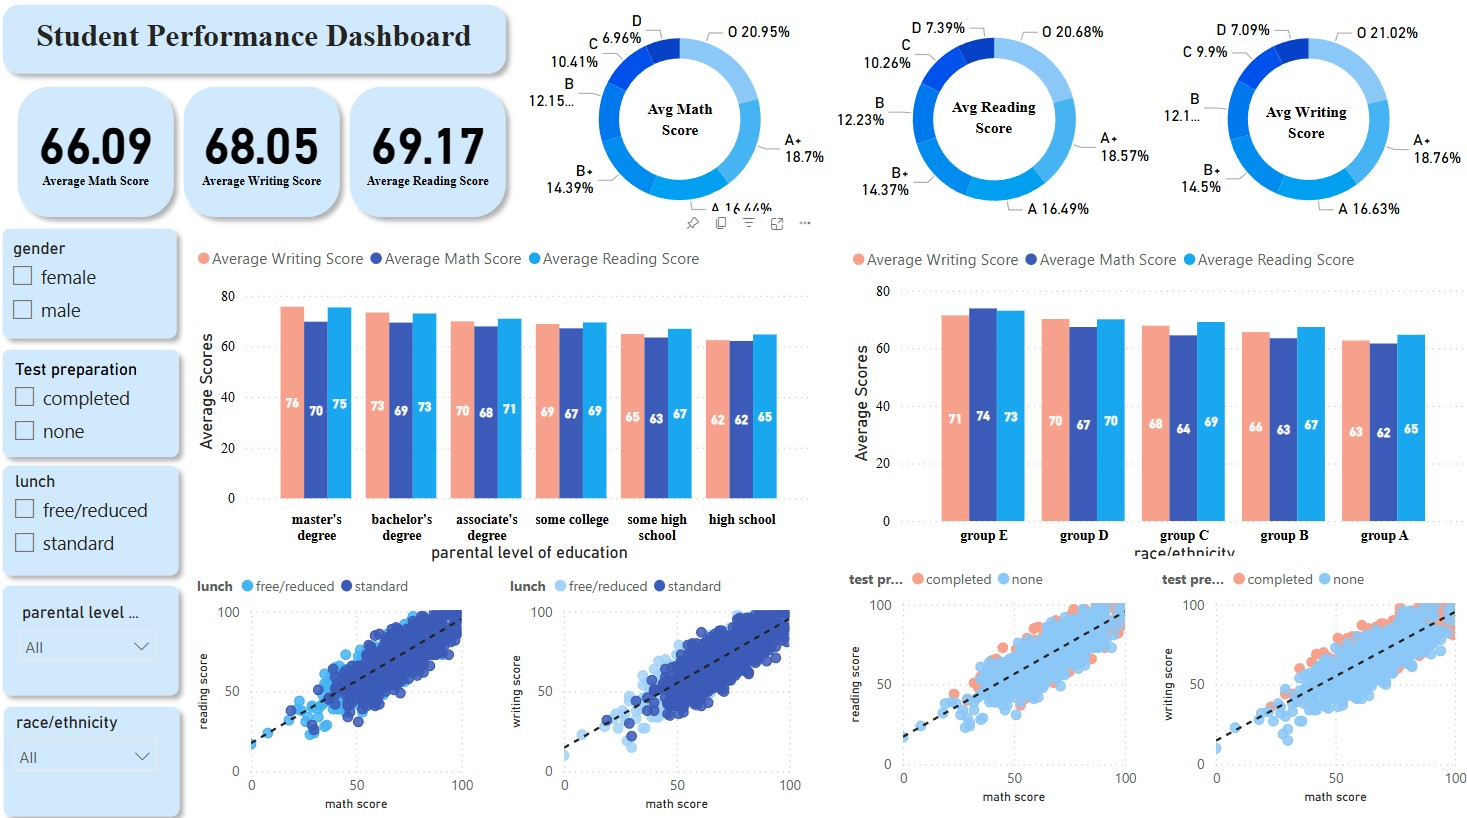

The dashboard page shown, as its layout file describes it:
{"tool":"powerbi","page":{"name":"Page 1","canvas":[1280,720],"ordinal":0},"visuals":[{"type":"shape","box":[0,0,453.3,77.8],"z":0},{"type":"textbox","box":[21.1,15.6,411.1,46.7],"z":1000},{"type":"group","id":"g1","title":"Group 1","box":[13.3,71.1,153.3,131.1],"z":2000},{"type":"shape","box":[2.2,202.2,202.2,157.8],"z":2000,"group":"g8"},{"type":"shape","box":[0,527.8,202.2,157],"z":2000,"group":"g9"},{"type":"shape","box":[0,365.6,202.2,157],"z":3000},{"type":"group","id":"g2","title":"Group 1","box":[156.7,71.1,153.3,131.1],"z":4000},{"type":"donutChart","fields":{"Category":["StudentsPerformance.Grade"],"Y":["StudentsPerformance.Average Math Score"]},"box":[453.3,7.8,283.3,201.1],"z":5000,"group":"g5"},{"type":"group","id":"g3","title":"Group 1","box":[299.6,71.1,153.3,131.1],"z":5000},{"type":"donutChart","fields":{"Category":["StudentsPerformance.Grade"],"Y":["StudentsPerformance.Average Reading Score"]},"box":[721.1,7.8,291.1,201.1],"z":6000,"group":"g6"},{"type":"group","id":"g4","title":"Group 4","box":[996.7,7.8,283.3,201.1],"z":6000},{"type":"group","id":"g5","title":"Group 5","box":[453.3,7.8,283.3,201.1],"z":7000},{"type":"textbox","box":[552.2,84.5,86.7,47.8],"z":7000,"group":"g5"},{"type":"shape","box":[13.3,71.1,153.3,131.1],"z":7500,"group":"g1"},{"type":"shape","box":[156.7,71.1,153.3,131.1],"z":7500,"group":"g2"},{"type":"shape","box":[299.6,71.1,153.3,131.1],"z":7500,"group":"g3"},{"type":"group","id":"g6","title":"Group 6","box":[721.1,7.8,291.1,201.1],"z":8000},{"type":"textbox","box":[814.4,83.4,103.3,51.1],"z":8000,"group":"g6"},{"type":"clusteredColumnChart","fields":{"Category":["StudentsPerformance.parental level of education"],"Y":["StudentsPerformance.Average Writing Score","StudentsPerformance.Average Math Score","StudentsPerformance.Average Reading Score"]},"box":[204.4,208.9,542.2,287.8],"z":9000},{"type":"card","fields":{"Values":["StudentsPerformance.Average Math Score"]},"box":[27.7,91.1,124.4,83.3],"z":10000,"group":"g1"},{"type":"card","fields":{"Values":["StudentsPerformance.Average Writing Score"]},"box":[171.1,91.1,124.4,83.3],"z":10000,"group":"g2"},{"type":"card","fields":{"Values":["StudentsPerformance.Average Reading Score"]},"box":[314,91.1,124.4,83.3],"z":10000,"group":"g3"},{"type":"clusteredColumnChart","fields":{"Y":["StudentsPerformance.Average Writing Score","StudentsPerformance.Average Math Score","StudentsPerformance.Average Reading Score"],"Category":["StudentsPerformance.race/ethnicity"]},"box":[737.8,208.9,542.2,287.8],"z":10000},{"type":"group","id":"g7","title":"Group 7","box":[996.7,7.8,283,201.1],"z":10003,"group":"g4"},{"type":"pieChart","fields":{"Y":["CountNonNull(StudentsPerformance.gender)"],"Category":["StudentsPerformance.gender"]},"box":[2.2,215.8,200,131.6],"z":10007,"group":"g8"},{"type":"pieChart","fields":{"Category":["StudentsPerformance.lunch"],"Y":["CountNonNull(StudentsPerformance.lunch)"]},"box":[0,541.3,200,131],"z":10007,"group":"g9"},{"type":"group","id":"g8","title":"Group 2","box":[2.2,202.2,202.2,157.8],"z":11000},{"type":"pieChart","fields":{"Category":["StudentsPerformance.test preparation course"],"Y":["CountNonNull(StudentsPerformance.test preparation course)"]},"box":[0,379,200,131],"z":12000},{"type":"group","id":"g9","title":"Group 2","box":[0,527.8,202.2,156.7],"z":13000},{"type":"donutChart","fields":{"Category":["StudentsPerformance.Grade"],"Y":["StudentsPerformance.Average Writing Score"]},"box":[996.7,7.8,283,201.1],"z":14000,"group":"g7"},{"type":"scatterChart","fields":{"Y":["StudentsPerformance.writing score"],"Series":["StudentsPerformance.lunch"],"X":["StudentsPerformance.math score"]},"box":[463.7,496.7,262.2,218.9],"z":14000},{"type":"scatterChart","fields":{"X":["StudentsPerformance.math score"],"Y":["StudentsPerformance.reading score"],"Series":["StudentsPerformance.lunch"]},"box":[204.4,496.7,248.9,218.9],"z":15000},{"type":"textbox","box":[1090.3,87.4,92.2,51.1],"z":15002,"group":"g7"},{"type":"scatterChart","fields":{"X":["StudentsPerformance.math score"],"Y":["StudentsPerformance.reading score"],"Series":["StudentsPerformance.test preparation course"]},"box":[736.3,496.7,258.9,218.9],"z":16000},{"type":"scatterChart","fields":{"X":["StudentsPerformance.math score"],"Y":["StudentsPerformance.writing score"],"Series":["StudentsPerformance.test preparation course"]},"box":[1005.6,496.7,274.4,218.9],"z":17000}]}

Visuals, with their boxes in screenshot pixels (x1, y1, x2, y2), scaled from the page's 1280x720 canvas onto the 1467x818 screenshot:
shape: Rect(0, 0, 520, 88)
textbox: Rect(24, 18, 495, 71)
"Group 1" group: Rect(15, 81, 191, 230)
shape: Rect(3, 230, 234, 409)
shape: Rect(0, 600, 232, 778)
shape: Rect(0, 415, 232, 594)
"Group 1" group: Rect(180, 81, 355, 230)
donutChart - StudentsPerformance.Grade x StudentsPerformance.Average Math Score: Rect(520, 9, 844, 237)
"Group 1" group: Rect(343, 81, 519, 230)
donutChart - StudentsPerformance.Grade x StudentsPerformance.Average Reading Score: Rect(826, 9, 1160, 237)
"Group 4" group: Rect(1142, 9, 1466, 237)
"Group 5" group: Rect(520, 9, 844, 237)
textbox: Rect(633, 96, 732, 150)
shape: Rect(15, 81, 191, 230)
shape: Rect(180, 81, 355, 230)
shape: Rect(343, 81, 519, 230)
"Group 6" group: Rect(826, 9, 1160, 237)
textbox: Rect(933, 95, 1052, 153)
clusteredColumnChart - StudentsPerformance.parental level of education x StudentsPerformance.Average Writing Score: Rect(234, 237, 856, 564)
card - StudentsPerformance.Average Math Score: Rect(32, 103, 174, 198)
card - StudentsPerformance.Average Writing Score: Rect(196, 103, 339, 198)
card - StudentsPerformance.Average Reading Score: Rect(360, 103, 502, 198)
clusteredColumnChart - StudentsPerformance.Average Writing Score x StudentsPerformance.Average Math Score: Rect(846, 237, 1466, 564)
"Group 7" group: Rect(1142, 9, 1466, 237)
pieChart - CountNonNull(StudentsPerformance.gender) x StudentsPerformance.gender: Rect(3, 245, 232, 395)
pieChart - StudentsPerformance.lunch x CountNonNull(StudentsPerformance.lunch): Rect(0, 615, 229, 764)
"Group 2" group: Rect(3, 230, 234, 409)
pieChart - StudentsPerformance.test preparation course x CountNonNull(StudentsPerformance.test preparation course): Rect(0, 431, 229, 579)
"Group 2" group: Rect(0, 600, 232, 778)
donutChart - StudentsPerformance.Grade x StudentsPerformance.Average Writing Score: Rect(1142, 9, 1466, 237)
scatterChart - StudentsPerformance.writing score x StudentsPerformance.lunch: Rect(531, 564, 832, 813)
scatterChart - StudentsPerformance.math score x StudentsPerformance.reading score: Rect(234, 564, 520, 813)
textbox: Rect(1250, 99, 1355, 157)
scatterChart - StudentsPerformance.math score x StudentsPerformance.reading score: Rect(844, 564, 1141, 813)
scatterChart - StudentsPerformance.math score x StudentsPerformance.writing score: Rect(1153, 564, 1466, 813)
